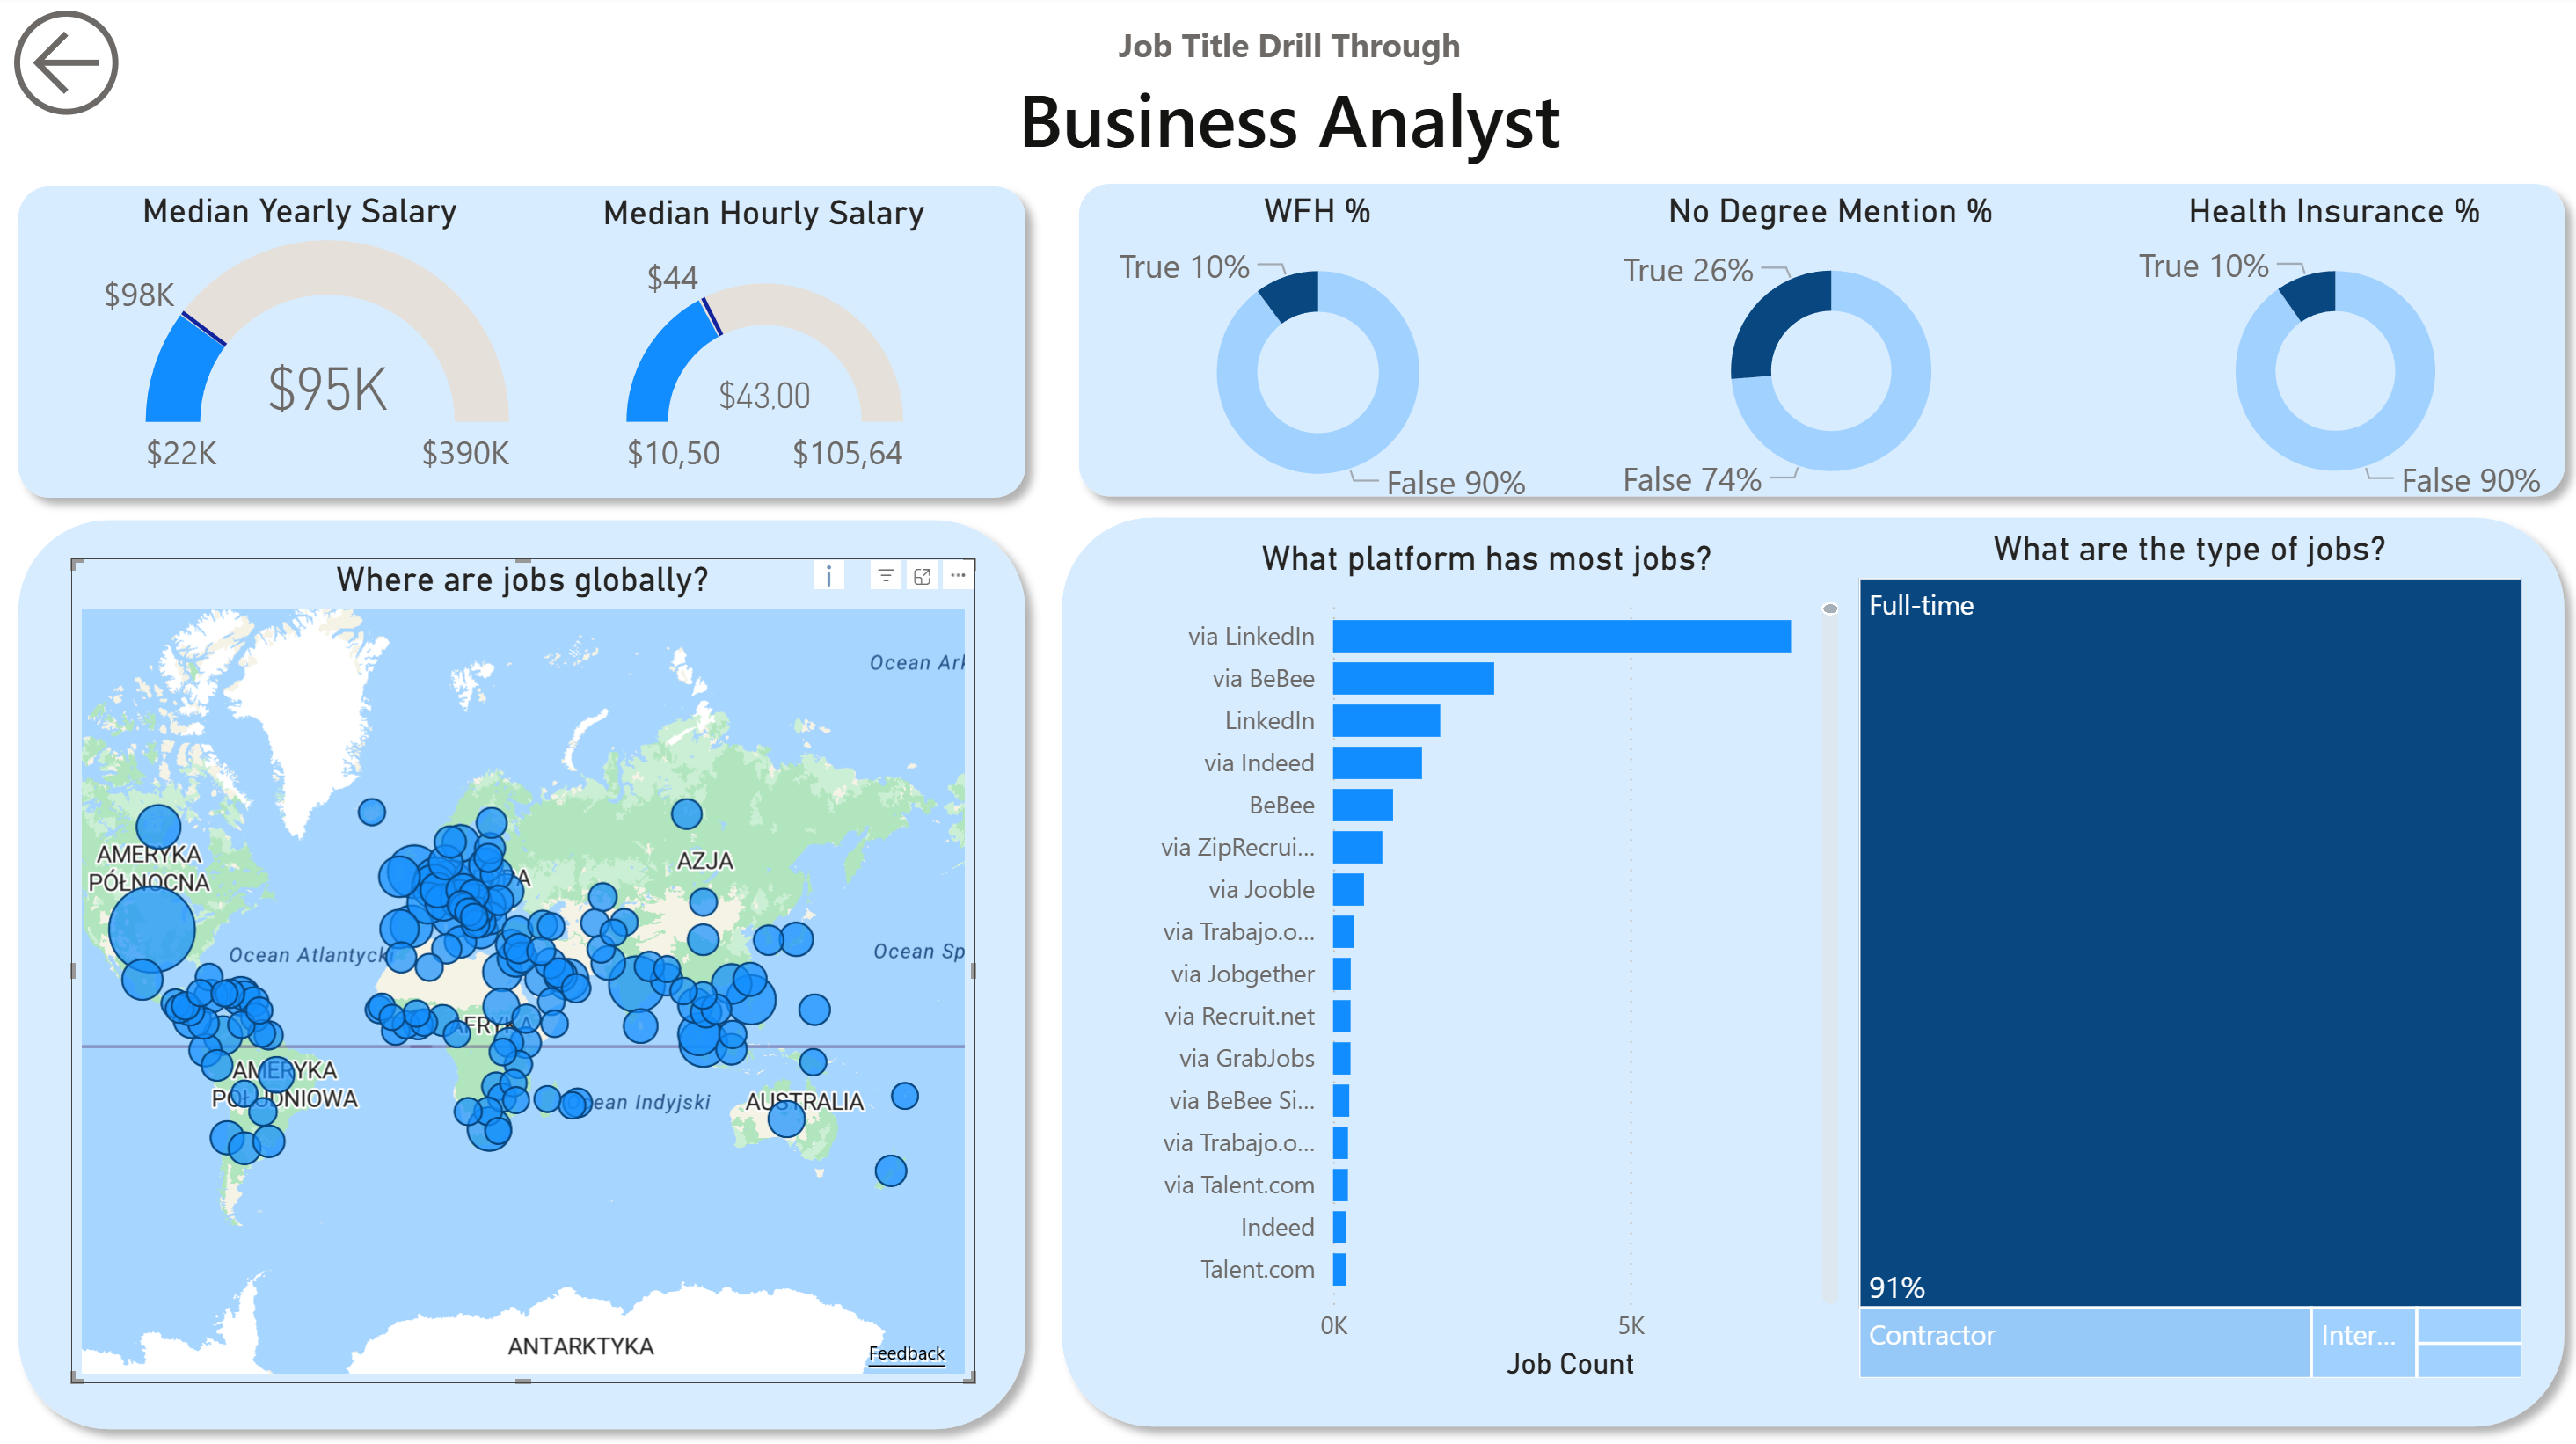

Layout of this report page (visuals, bound fields, positions):
{"tool":"powerbi","page":{"name":"Job Title Drill Through","canvas":[1280,720],"ordinal":1},"visuals":[{"type":"group","id":"g1","title":"Background","box":[0,84,1280.3,635.3],"z":500},{"type":"cardVisual","fields":{"Data":["Min(job_postings_flat.job_title_short)"]},"box":[362.4,0,554,97.3],"z":1000},{"type":"actionButton","box":[0,0,88.1,65.7],"z":2000},{"type":"shape","box":[0,85.5,517.3,172.4],"z":2000,"group":"g1"},{"type":"shape","box":[525.5,84,754.7,173.2],"z":3000,"group":"g1"},{"type":"gauge","title":"Median Yearly Salary","fields":{"Y":["Median(job_postings_flat.salary_year_avg)"],"MinValue":["Min(job_postings_flat.salary_year_avg)1"],"MaxValue":["Max(job_postings_flat.salary_year_avg)2"],"TargetValue":["Avg(job_postings_flat.salary_year_avg)3"]},"box":[38.8,96.3,220.2,150.8],"z":3000},{"type":"gauge","title":"Median Hourly Salary","fields":{"Y":["Median(job_postings_flat.salary_hour_avg)"],"MinValue":["Min(job_postings_flat.salary_hour_avg)1"],"MaxValue":["Max(job_postings_flat.salary_hour_avg)3"],"TargetValue":["Avg(job_postings_flat.salary_hour_avg)2"]},"box":[259,97,239.6,150],"z":4000},{"type":"shape","box":[0,250.4,517.3,468.8],"z":4000,"group":"g1"},{"type":"donutChart","title":"WFH %","fields":{"Category":["job_postings_flat.job_work_from_home"],"Y":["CountNonNull(job_postings_flat.job_title_short)"]},"box":[525.5,96.3,254.6,160.5],"z":5000},{"type":"shape","box":[517.3,249.7,762.9,468.8],"z":5000,"group":"g1"},{"type":"donutChart","title":"No Degree Mention %","fields":{"Y":["CountNonNull(job_postings_flat.job_title_short)"],"Category":["job_postings_flat.job_no_degree_mention"]},"box":[780.1,96.3,254.6,159],"z":6000},{"type":"donutChart","title":"Health Insurance %","fields":{"Y":["CountNonNull(job_postings_flat.job_title_short)"],"Category":["job_postings_flat.job_health_insurance"]},"box":[1034.7,96.3,245.6,159],"z":7000},{"type":"azureMap","title":"Where are jobs globally?","fields":{"Category":["job_postings_flat.job_country"],"Size":["CountNonNull(job_postings_flat.job_title_short)"]},"box":[35.1,278.4,447.9,409.1],"z":8000},{"type":"treemap","title":"What are the type of jobs?","fields":{"Group":["job_postings_flat.job_schedule_type"],"Values":["CountNonNull(job_postings_flat.job_schedule_type)"]},"box":[916,263.5,338.9,426.3],"z":9000},{"type":"barChart","title":"What platform has most jobs?","fields":{"Y":["CountNonNull(job_postings_flat.job_title_short)"],"Category":["job_postings_flat.job_via"]},"box":[558.4,268,357.6,421.8],"z":10000}]}

Visuals, with their boxes in screenshot pixels (x1, y1, x2, y2), scaled from the page's 1280x720 canvas onto the 2576x1444 screenshot:
"Background" group: l=0, t=169, r=2575, b=1442
cardVisual - Min(job_postings_flat.job_title_short): l=729, t=0, r=1844, b=195
actionButton: l=0, t=0, r=178, b=132
shape: l=0, t=171, r=1041, b=517
shape: l=1057, t=169, r=2575, b=516
"Median Yearly Salary" gauge: l=78, t=193, r=522, b=496
"Median Hourly Salary" gauge: l=522, t=194, r=1003, b=495
shape: l=0, t=502, r=1041, b=1442
"WFH %" donutChart: l=1057, t=193, r=1570, b=515
shape: l=1041, t=500, r=2575, b=1441
"No Degree Mention %" donutChart: l=1570, t=193, r=2083, b=512
"Health Insurance %" donutChart: l=2083, t=193, r=2575, b=512
"Where are jobs globally?" azureMap: l=70, t=558, r=972, b=1379
"What are the type of jobs?" treemap: l=1843, t=529, r=2526, b=1383
"What platform has most jobs?" barChart: l=1124, t=537, r=1843, b=1383
